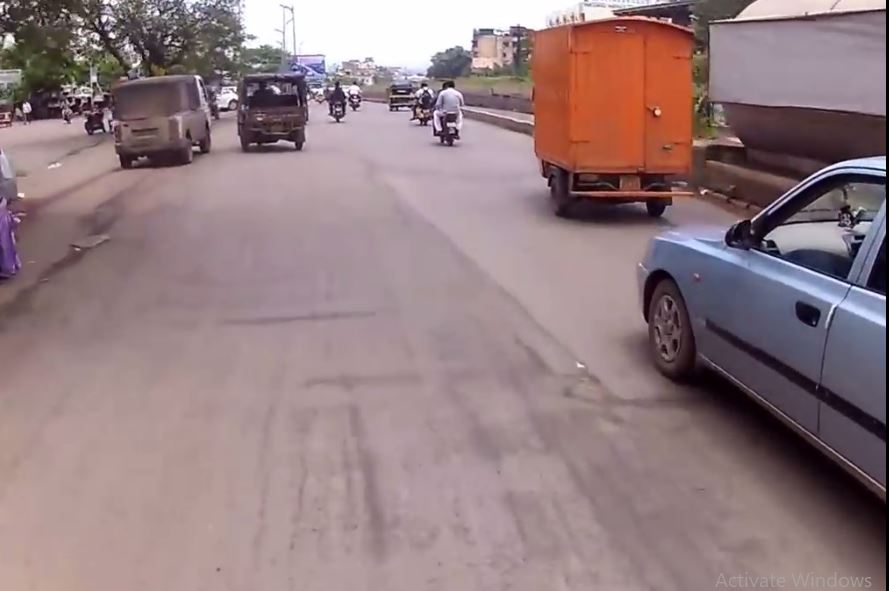autorickshaw: (380, 77, 416, 119)
car: (633, 144, 889, 519)
